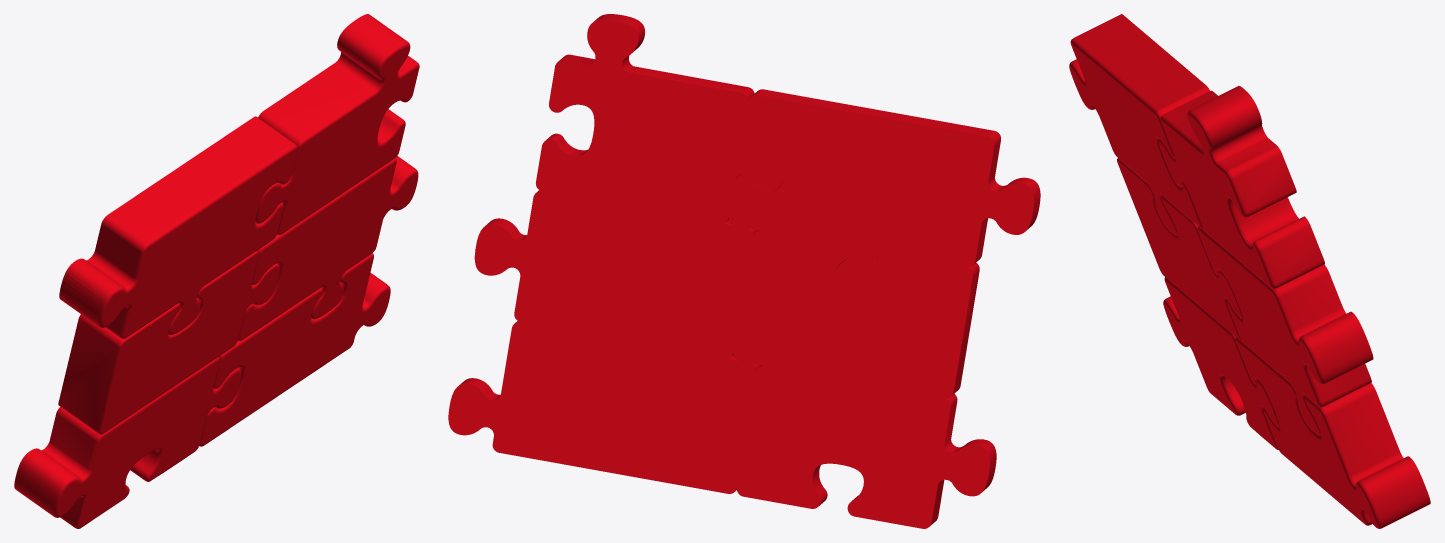
File: Jigsaws_07_LowPoly.gltf
The picture shows the model from 3 angles, left to right: view 1: azimuth 30°, elevation 25°; view 2: azimuth 150°, elevation 25°; view 3: azimuth 270°, elevation 25°; orthographic projection. The views are drawn at different scales.
Parts seen in each view (by area): view 1: Curve.007, Curve.009, Curve.008, Curve.004, Curve.006, Curve.005; view 2: Curve.007, Curve.006, Curve.005, Curve.004, Curve.009, Curve.008; view 3: Curve.009, Curve.005, Curve.006, Curve.007, Curve.004, Curve.008.
Boxes of the visible parts, x1,y1,x2,y2 form: Curve.007: (59,116,297,338); Curve.009: (255,14,419,234); Curve.008: (14,357,241,528); Curve.004: (58,251,279,434); Curve.006: (238,156,418,340); Curve.005: (199,253,390,446); Curve.007: (729,89,1040,297); Curve.006: (474,190,757,381); Curve.005: (448,321,760,493); Curve.004: (694,230,979,398); Curve.009: (536,14,787,223); Curve.008: (697,365,996,528); Curve.009: (1159,86,1324,288); Curve.005: (1235,337,1430,528); Curve.006: (1197,226,1373,434); Curve.007: (1069,14,1209,235); Curve.004: (1117,158,1242,339); Curve.008: (1163,277,1279,449).
Size of the model in its own units: 1.34 by 1.23 by 0.8789.
